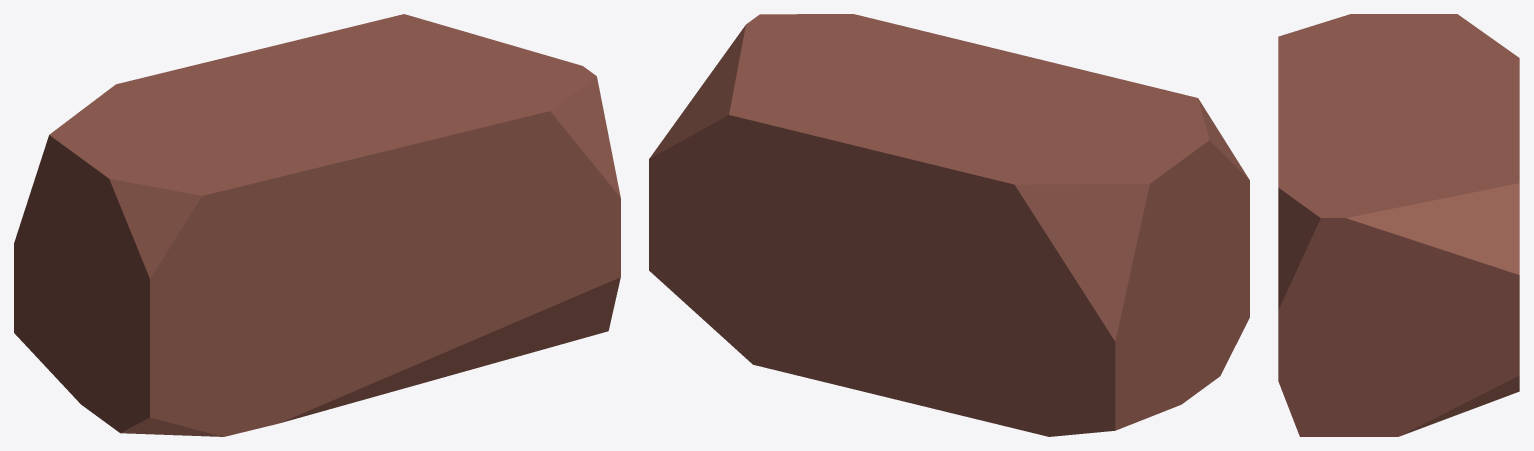
Rendered from Brick_B_02.FBX.
The picture shows the model from 3 angles, left to right: view 1: azimuth 30°, elevation 25°; view 2: azimuth 150°, elevation 25°; view 3: azimuth 270°, elevation 25°; orthographic projection. The views are drawn at different scales.
Visible parts, largest first — view 1: Brick_B_02; view 2: Brick_B_02; view 3: Brick_B_02.
Boxes of the visible parts, box(x1,y1,x2,y2) form: Brick_B_02: box(14, 14, 620, 436); Brick_B_02: box(649, 14, 1249, 436); Brick_B_02: box(1278, 14, 1519, 436).
Size of the model in its own units: 1.13 by 0.5673 by 0.5673.
